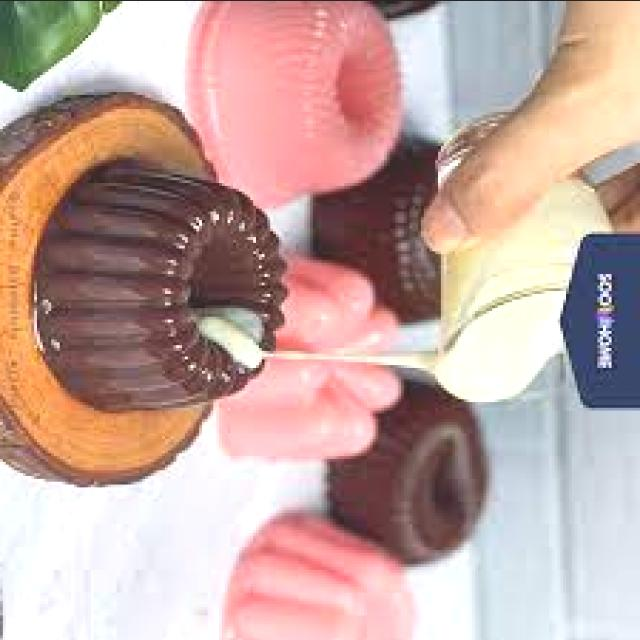puding: (27, 153, 296, 430)
